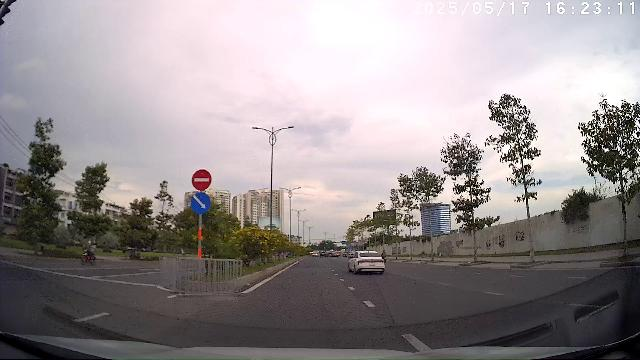102-cam-di-nguoc-chieu: (192, 170, 212, 190)
302a-huong-phai-di-vong-chuong-ngai-vat-1: (190, 192, 210, 214)
